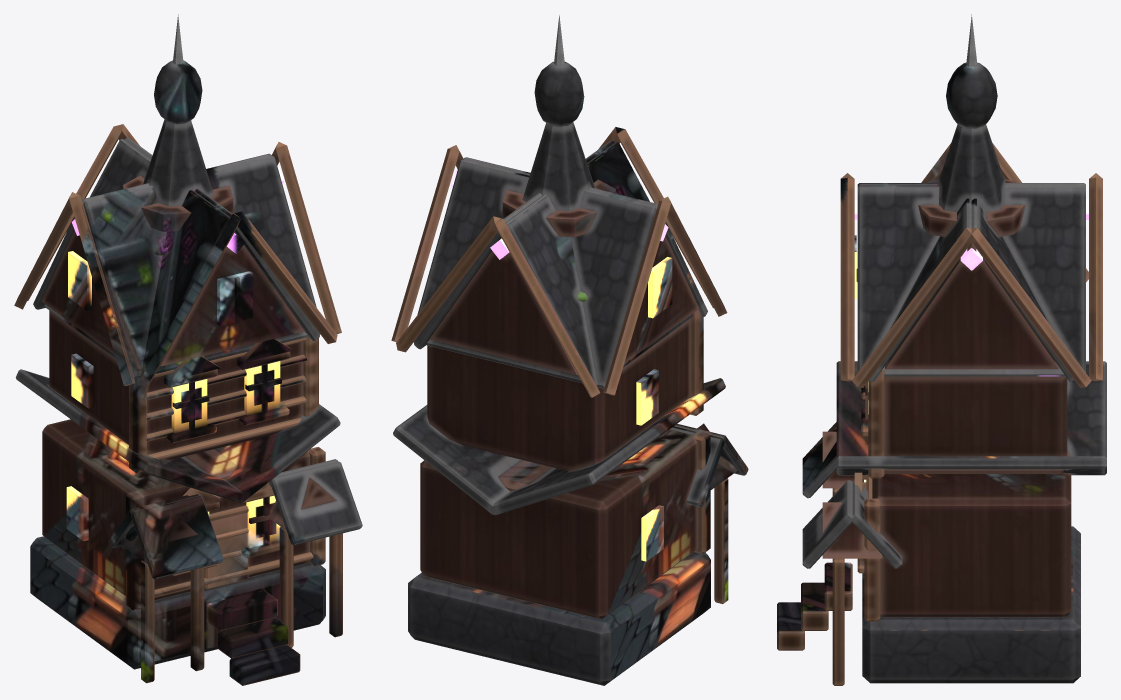
The model's file is terem.glb.
The picture shows the model from 3 angles, left to right: view 1: azimuth 30°, elevation 25°; view 2: azimuth 150°, elevation 25°; view 3: azimuth 270°, elevation 25°; orthographic projection. The views are drawn at different scales.
Visible parts, largest first — view 1: terem; view 2: terem; view 3: terem.
Boxes of the visible parts, x1,y1,x2,y2 form: terem: (14, 14, 362, 685); terem: (391, 15, 748, 685); terem: (777, 14, 1106, 685).
Bounding box in the file's own units: 1.32 × 3.45 × 1.66.
Materials: 1 (1 with a texture image).
